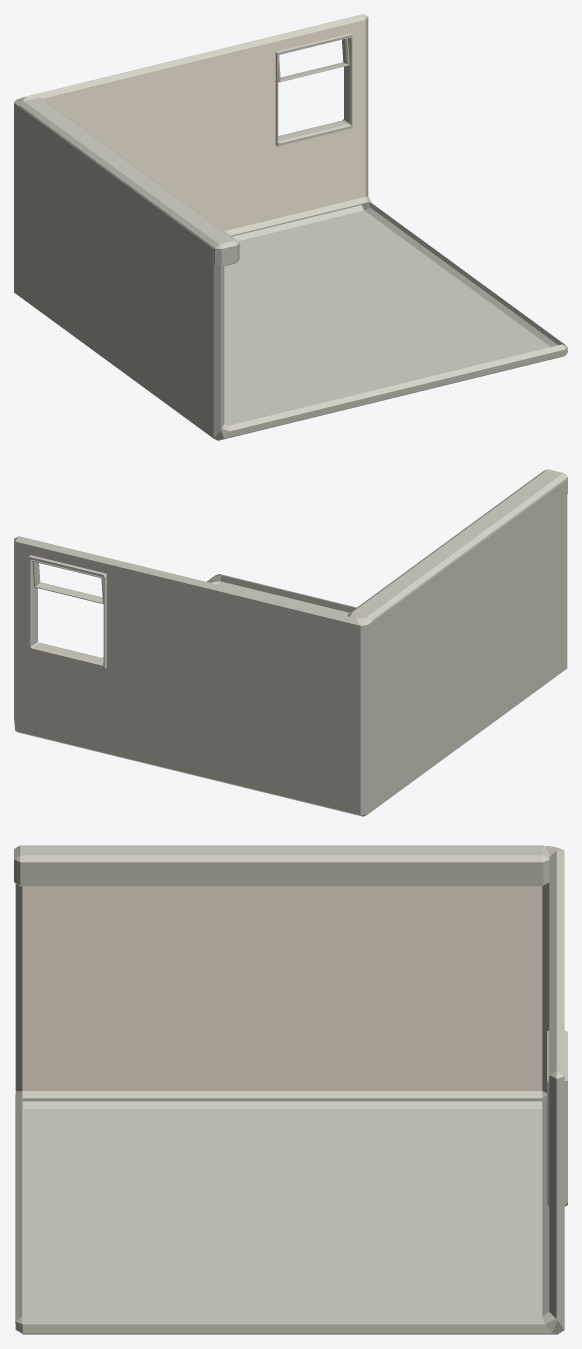
Rendered from room_wall.glb.
The picture shows the model from 3 angles, top to bottom: view 1: azimuth 30°, elevation 25°; view 2: azimuth 150°, elevation 25°; view 3: azimuth 270°, elevation 25°; orthographic projection. The views are drawn at different scales.
Parts seen in each view (by area): view 1: living room; view 2: living room; view 3: living room.
Part boxes in pixels (<box>): living room: <box>14,14,567,440</box>; living room: <box>14,469,567,816</box>; living room: <box>14,845,567,1334</box>.
Bounding box in the file's own units: 105 × 55.94 × 106.
